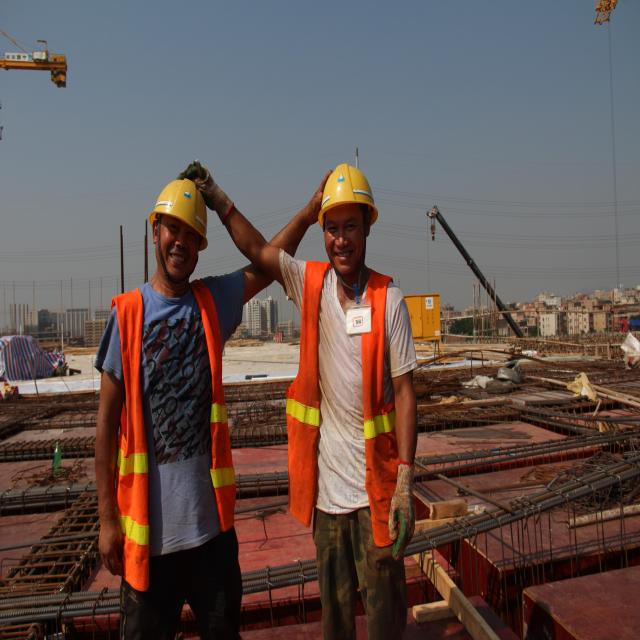Reflective-Jacket: (108, 274, 238, 562), (284, 261, 402, 538)
Safety-Helmet: (148, 170, 212, 240), (316, 158, 379, 223)
